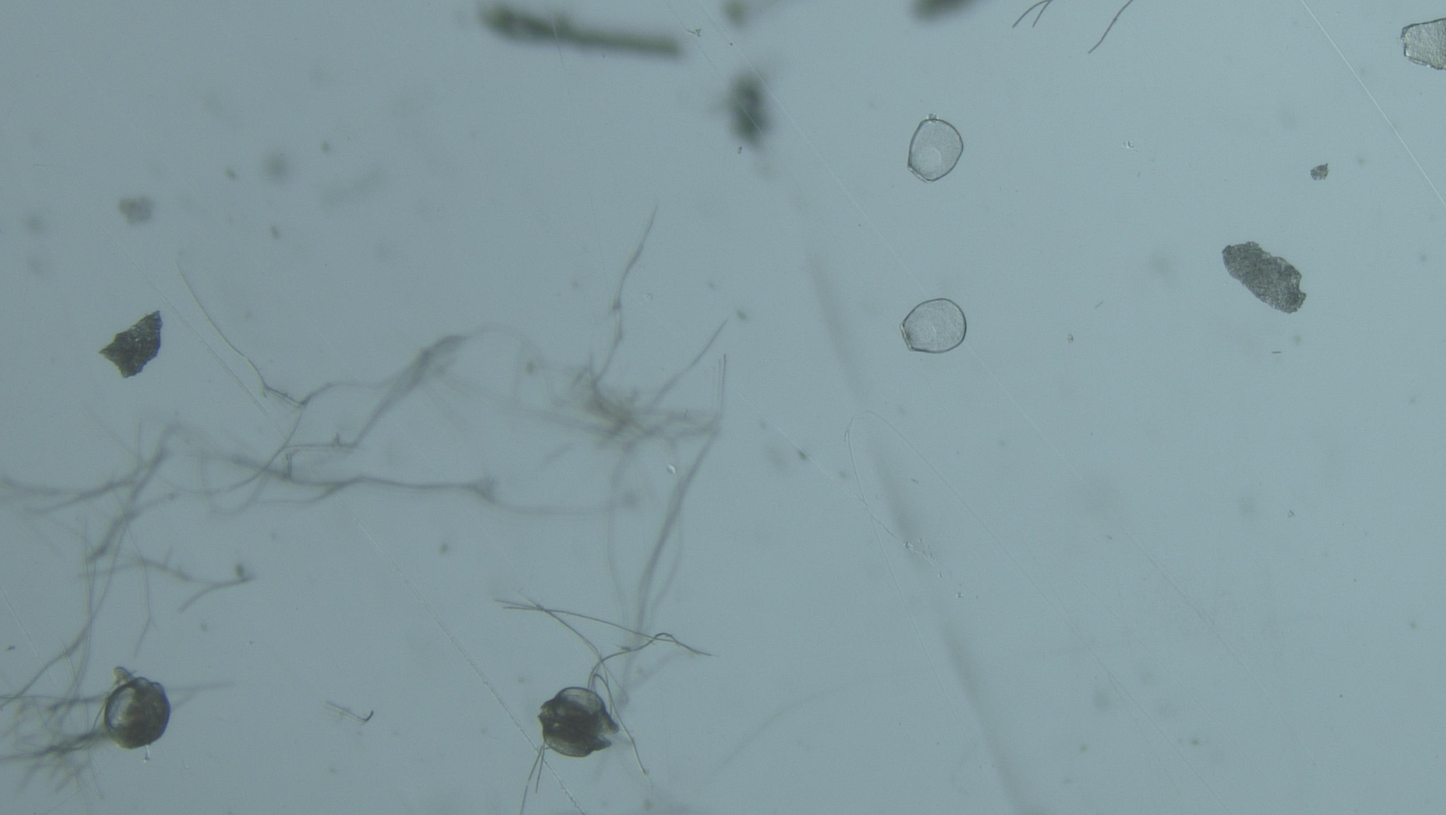dead: (908, 116, 964, 182), (901, 299, 967, 354)
live: (103, 667, 171, 750), (539, 687, 618, 757)
